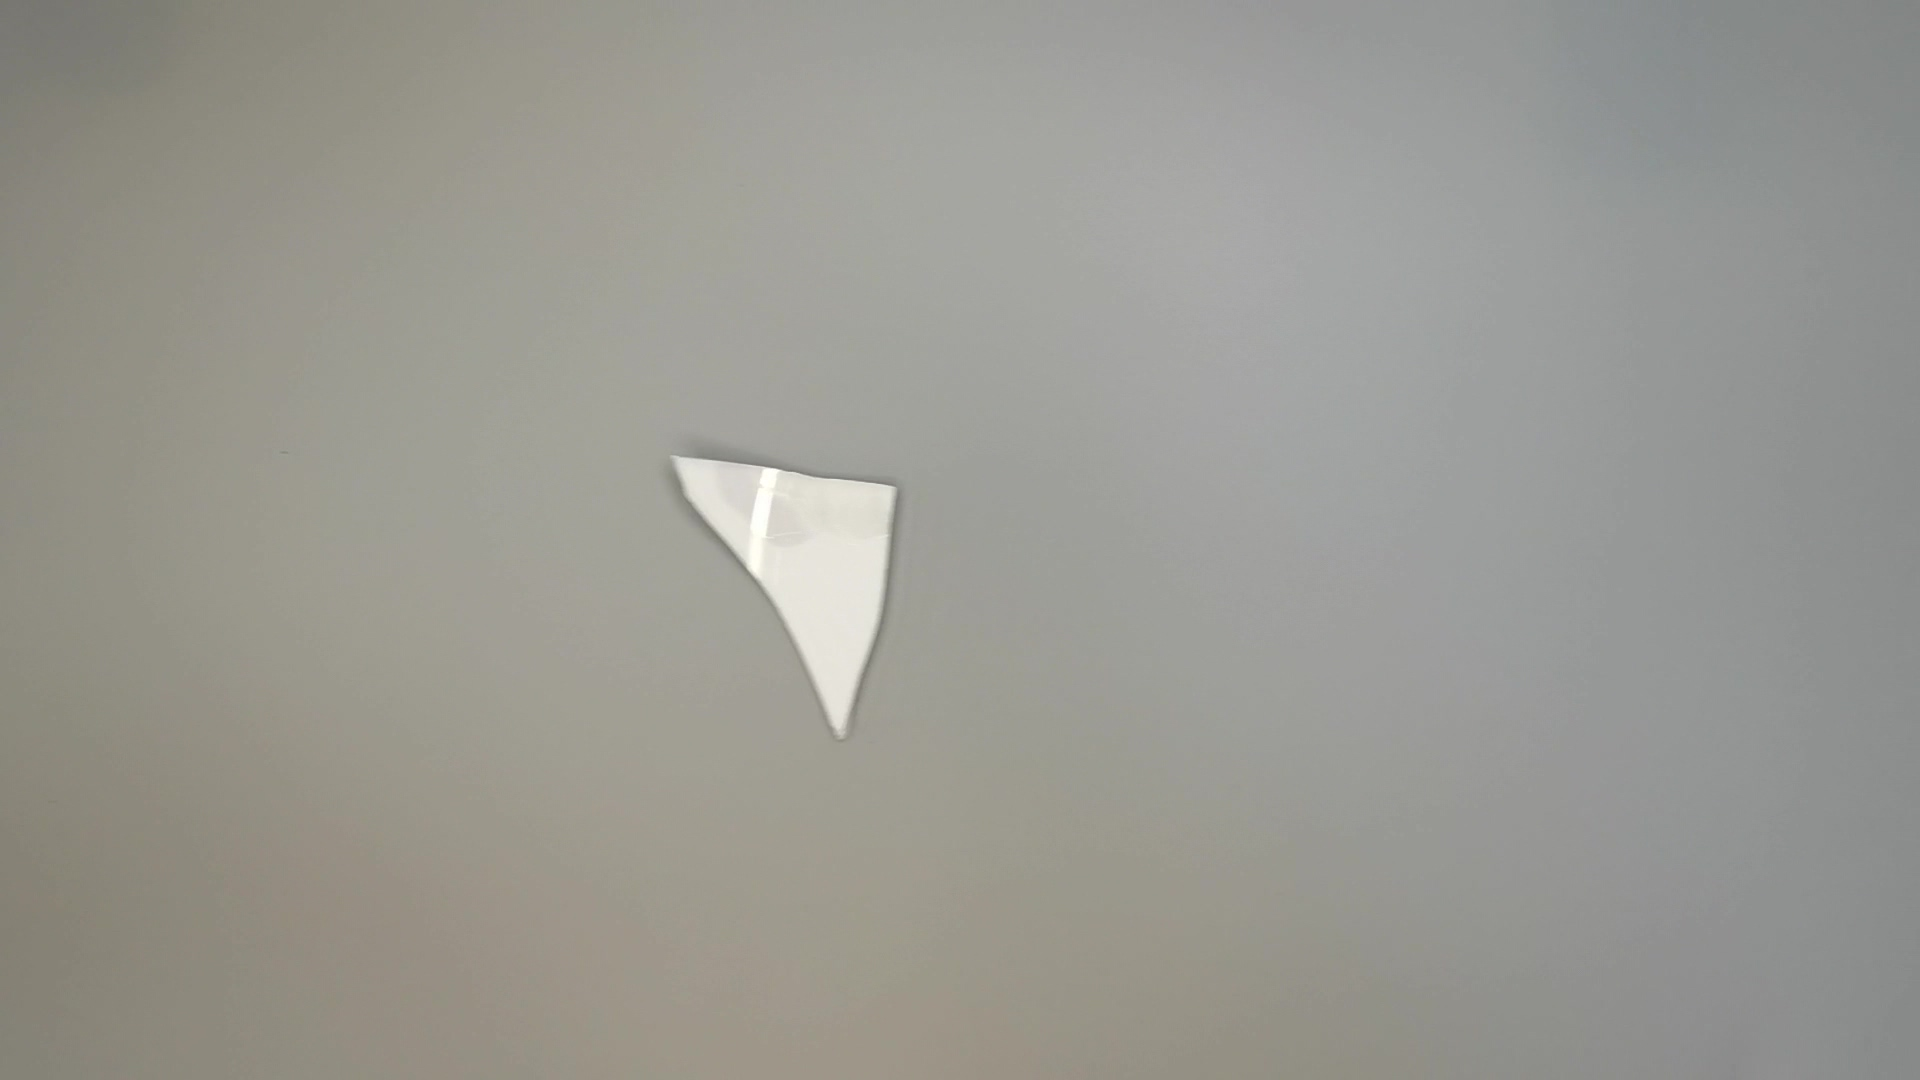ceramic: (655, 444, 907, 749)
